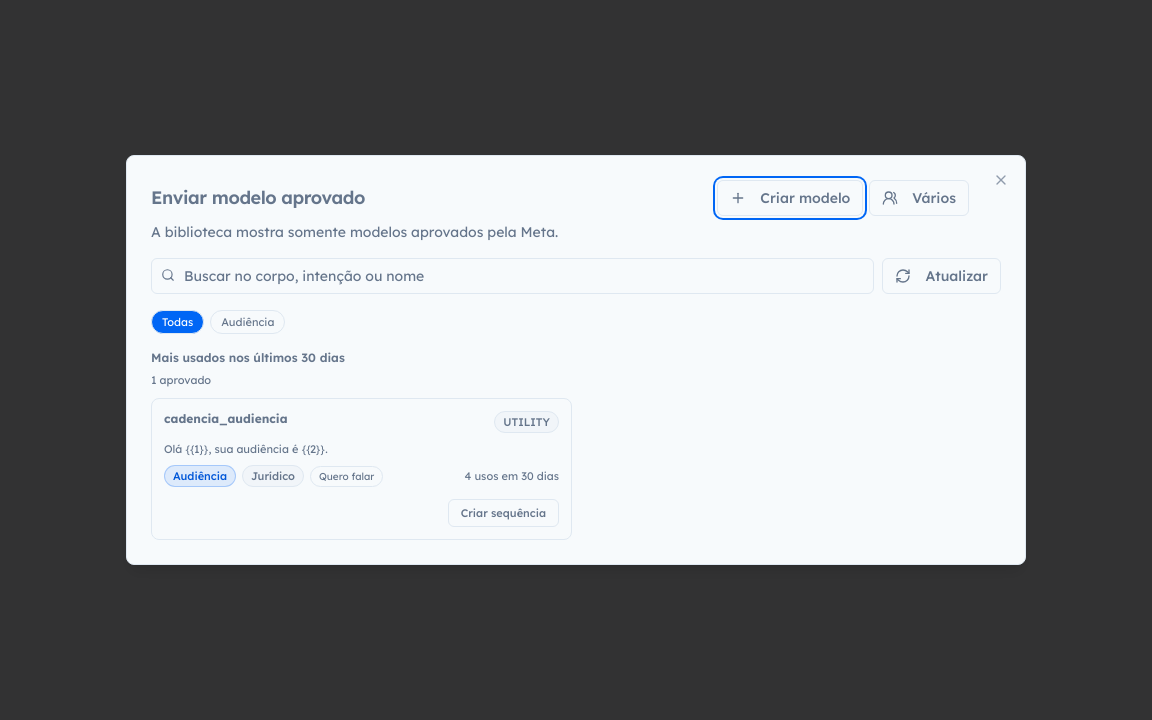
Test: ConversationTemplatePicker › abre sequência em subtela, mantém contexto e oferece iniciar pelo contrato do host
Later steps or results of the test are not shown.
Click the text "cadencia_audiencia": point(226, 419) [164,411,288,427]
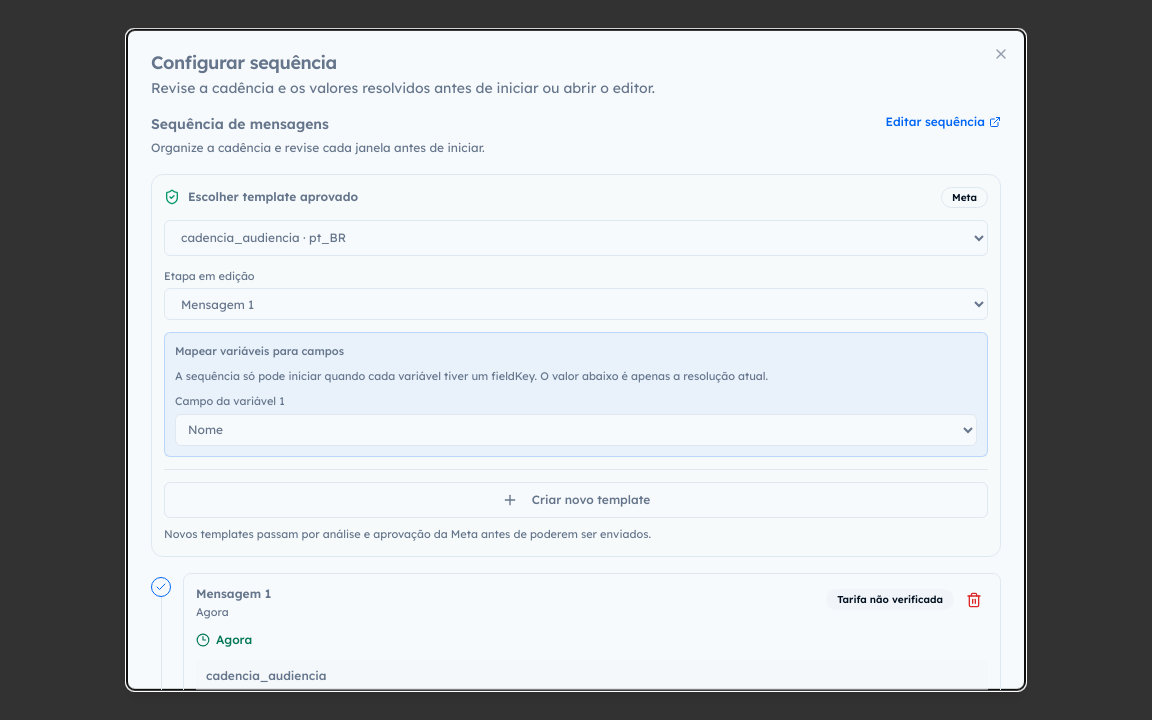
Result: the heading "Configurar sequência" is shown at [151,54,337,72]
